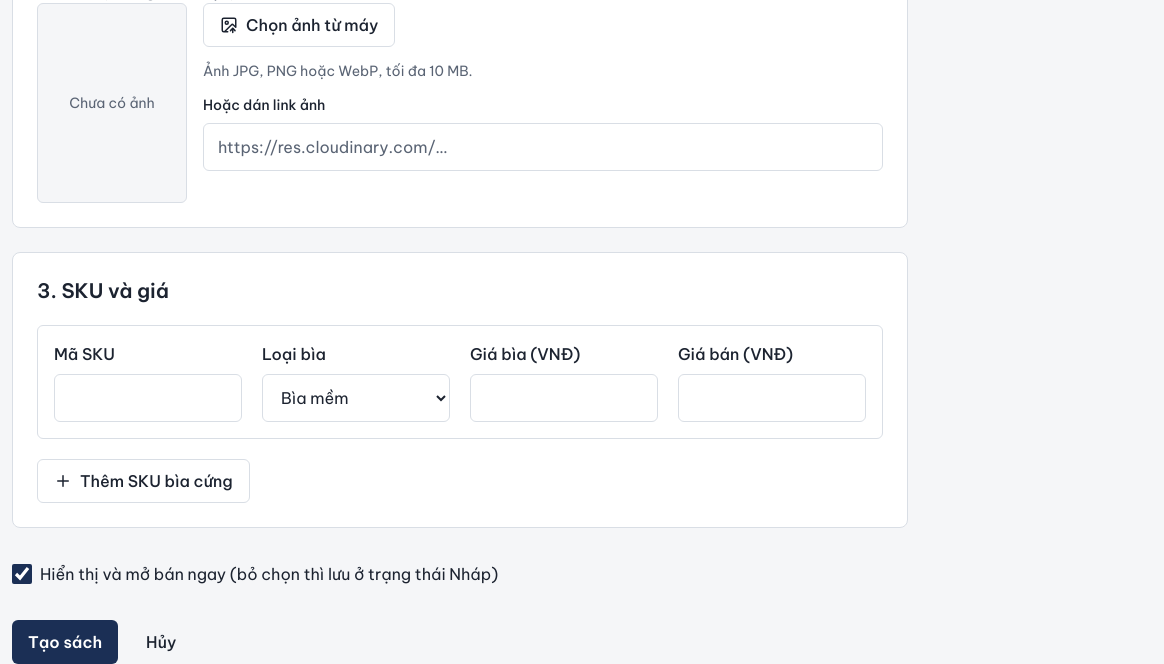
Test: QuickBookCreate › thêm SKU bìa cứng rồi chặn trùng loại bìa
The width and height of the screenshot is (1164, 664).
(page scrolled)
What coordinates should you click on to do the following:
click the button "Thêm SKU bìa cứng"
I would click on:
 (143, 481)
Its box is [37,459,250,503].
(page scrolled)
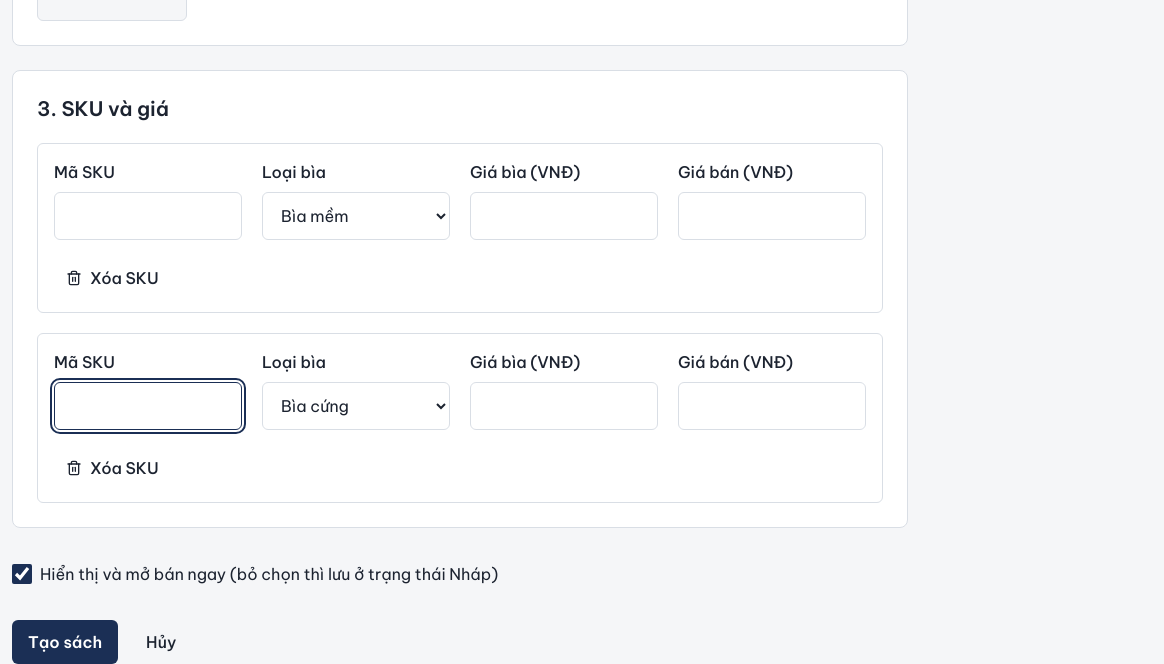
Expected: the number of fields labelled "Mã SKU" is 2, [54,192,242,240]; [54,382,242,430]
Now the button "Thêm SKU" is gone
Now the button with aria-label "Xóa SKU 2" is shown, box [54,450,171,486]
